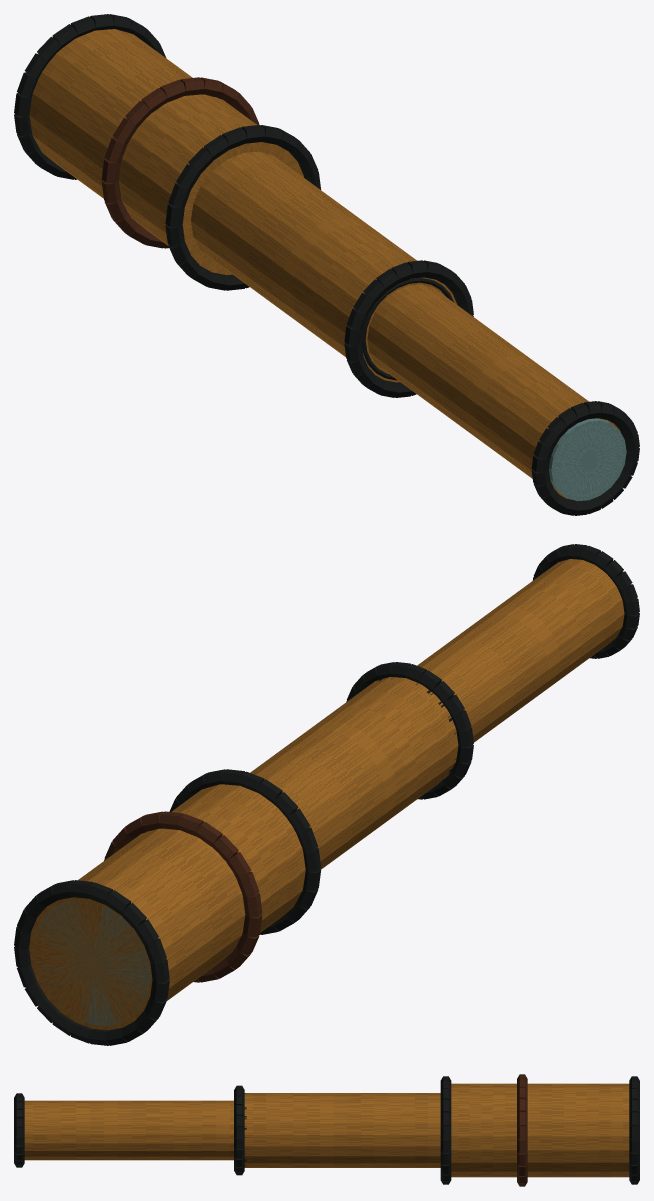
The model's file is SM_spyglass.gltf.
3 renders of one model, top to bottom at view 1: azimuth 30°, elevation 25°; view 2: azimuth 150°, elevation 25°; view 3: azimuth 270°, elevation 25°, orthographic. The views are drawn at different scales.
Visible parts, largest first — view 1: root; view 2: root; view 3: root.
Part boxes in pixels (bbox=[...]): root: bbox=[14, 14, 639, 515]; root: bbox=[14, 544, 639, 1045]; root: bbox=[14, 1074, 639, 1186].
Bounding box in the file's own units: 0.2506 × 0.2506 × 1.39.
Materials: 4 (4 with a texture image).
